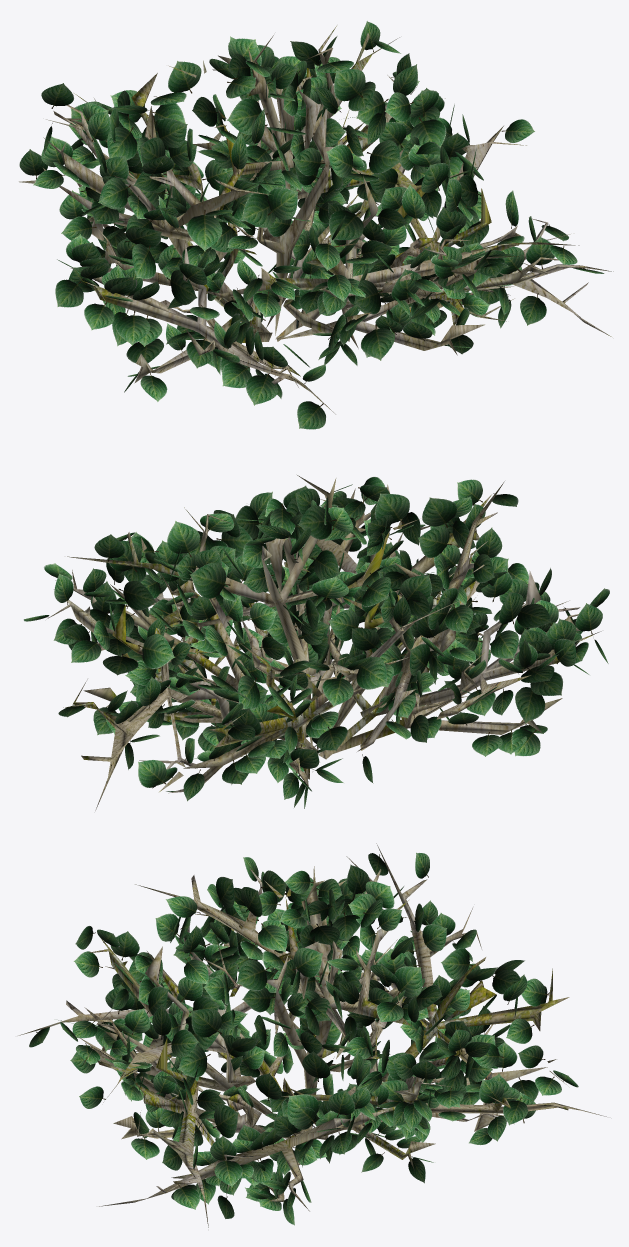
Rendered from Bsuh.fbx.
The picture shows the model from 3 angles, top to bottom: view 1: azimuth 30°, elevation 25°; view 2: azimuth 150°, elevation 25°; view 3: azimuth 270°, elevation 25°; orthographic projection. The views are drawn at different scales.
Parts seen in each view (by area): view 1: Vert.001; view 2: Vert.001; view 3: Vert.001.
Part boxes in pixels (x1=…): Vert.001: x1=19, y1=21, x2=613, y2=429; Vert.001: x1=23, y1=475, x2=609, y2=810; Vert.001: x1=18, y1=843, x2=606, y2=1227.
Size of the model in its own units: 2.38 by 1.33 by 2.51.
2 materials, 2 textured.
